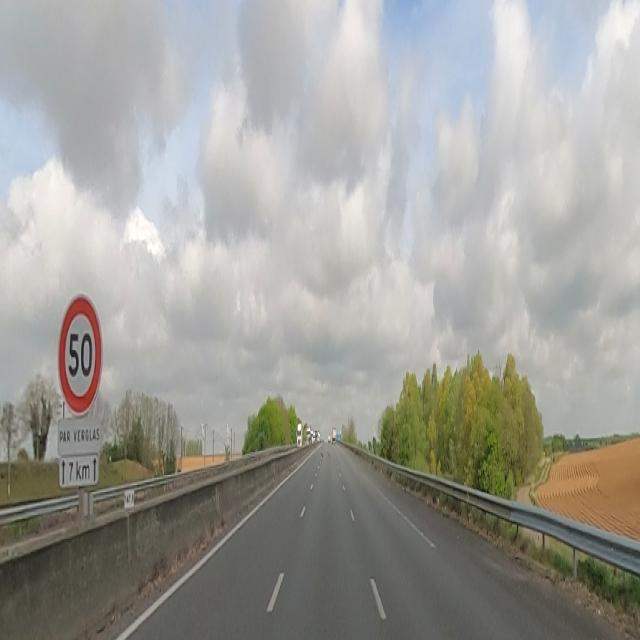speed_50: (59, 294, 102, 415)
